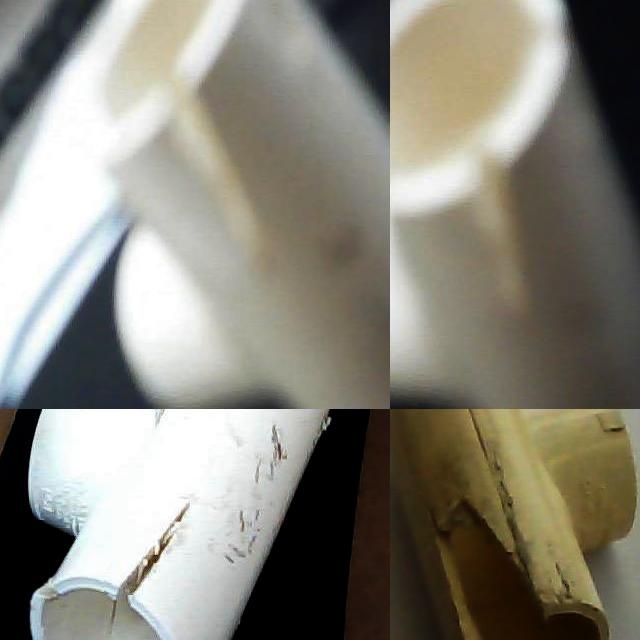Defective: (430, 69, 541, 295), (149, 43, 259, 248), (433, 498, 548, 640), (104, 495, 214, 640)
T Joint: (140, 53, 390, 409), (27, 409, 332, 640), (390, 409, 638, 640)
